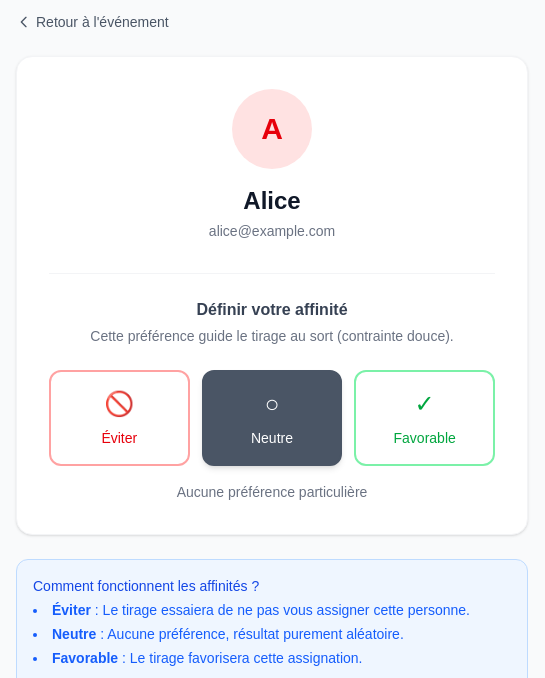
Test: AffinityPage › saves the affinity and shows a success message on a successful PUT
Expected: the heading "Alice" is shown, [243,185,301,217]
Click the button "✓ Favorable": click(425, 418) [354,370,495,466]
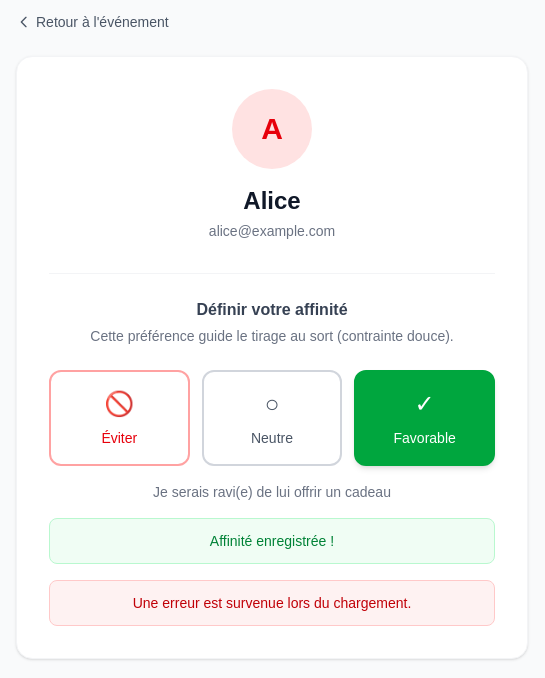
Now the text "Affinité enregistrée !" is shown, box [49,518,495,564]
